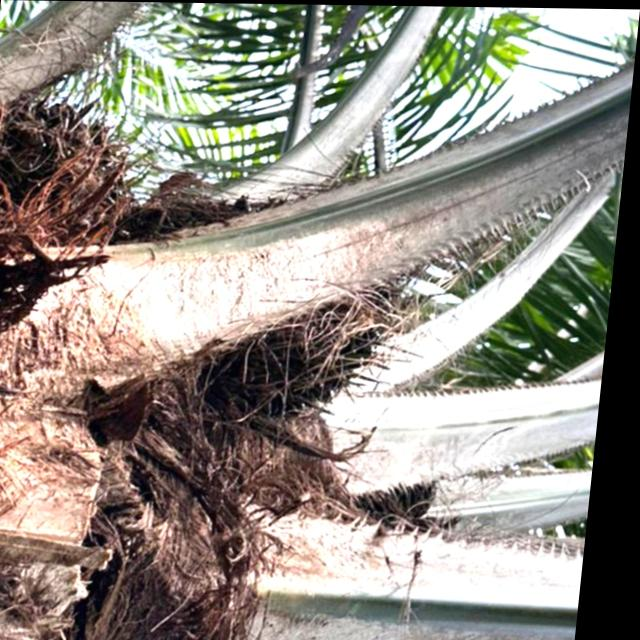unripe: (142, 178, 441, 441)
